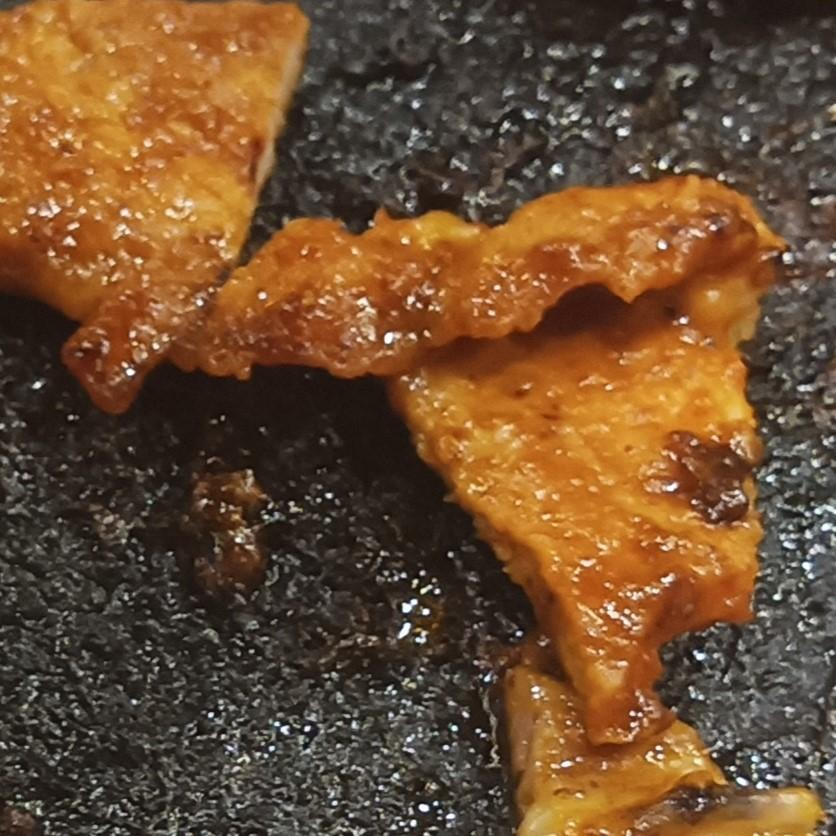Well-Cooked: (202, 176, 788, 746), (0, 0, 310, 415), (503, 666, 822, 835)
